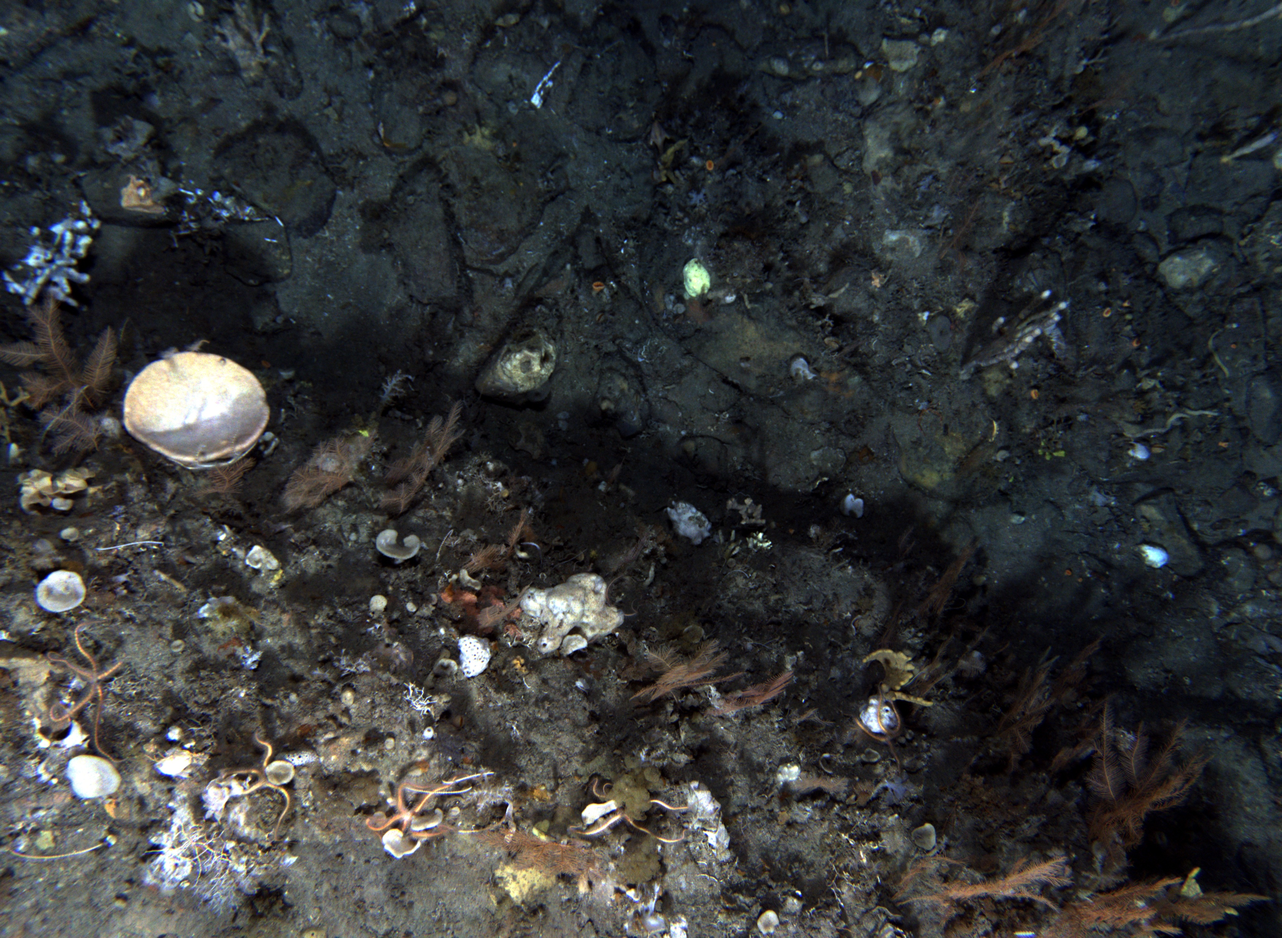Brachionichthyidae: (646, 119, 672, 158)
